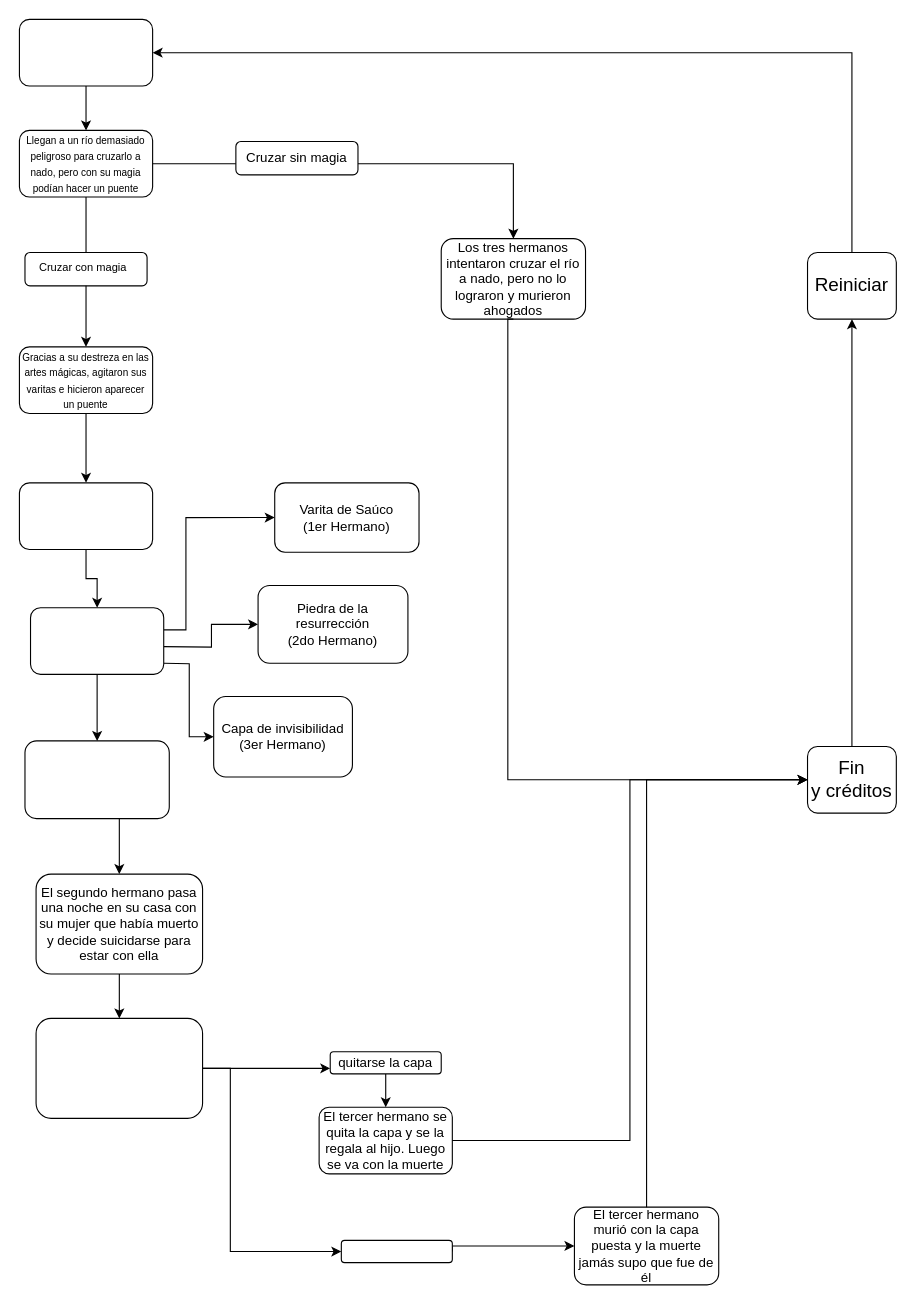
The diagram is 916 pixels wide and 1305 high, and some of its shapes have lost their labels. The centre of each missing label's shape, as x and y in pixels:
Al tercer hermano la muerte lo busco por mucho tiempo: pixel 119 1067
dejarse la capa: pixel 396 1251
El primer hermano tiene una batalla y gana, pero por la noche es asesinado: pixel 96 779
La muerte les regala a cada un obsequio: pixel 96 640
Los 3 hermanos cruzan el puente pero aparece la muerte: pixel 85 515
Los 3 hermanos viajaban por la carretera: pixel 85 52
